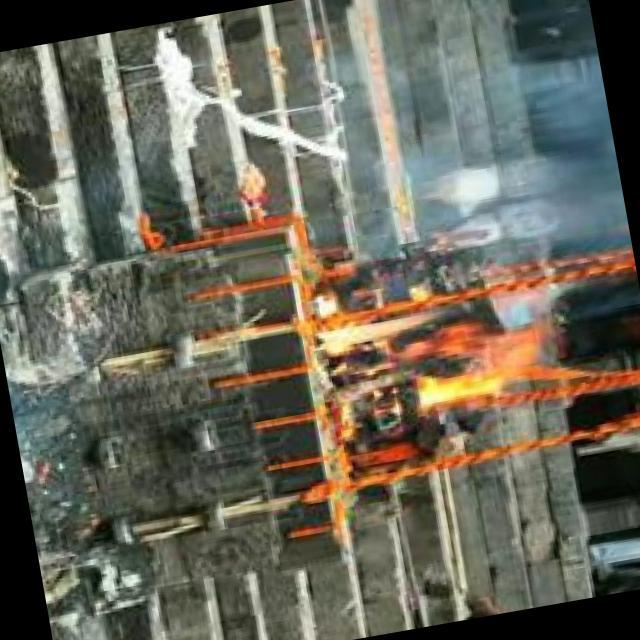Fire: (310, 280, 572, 435)
